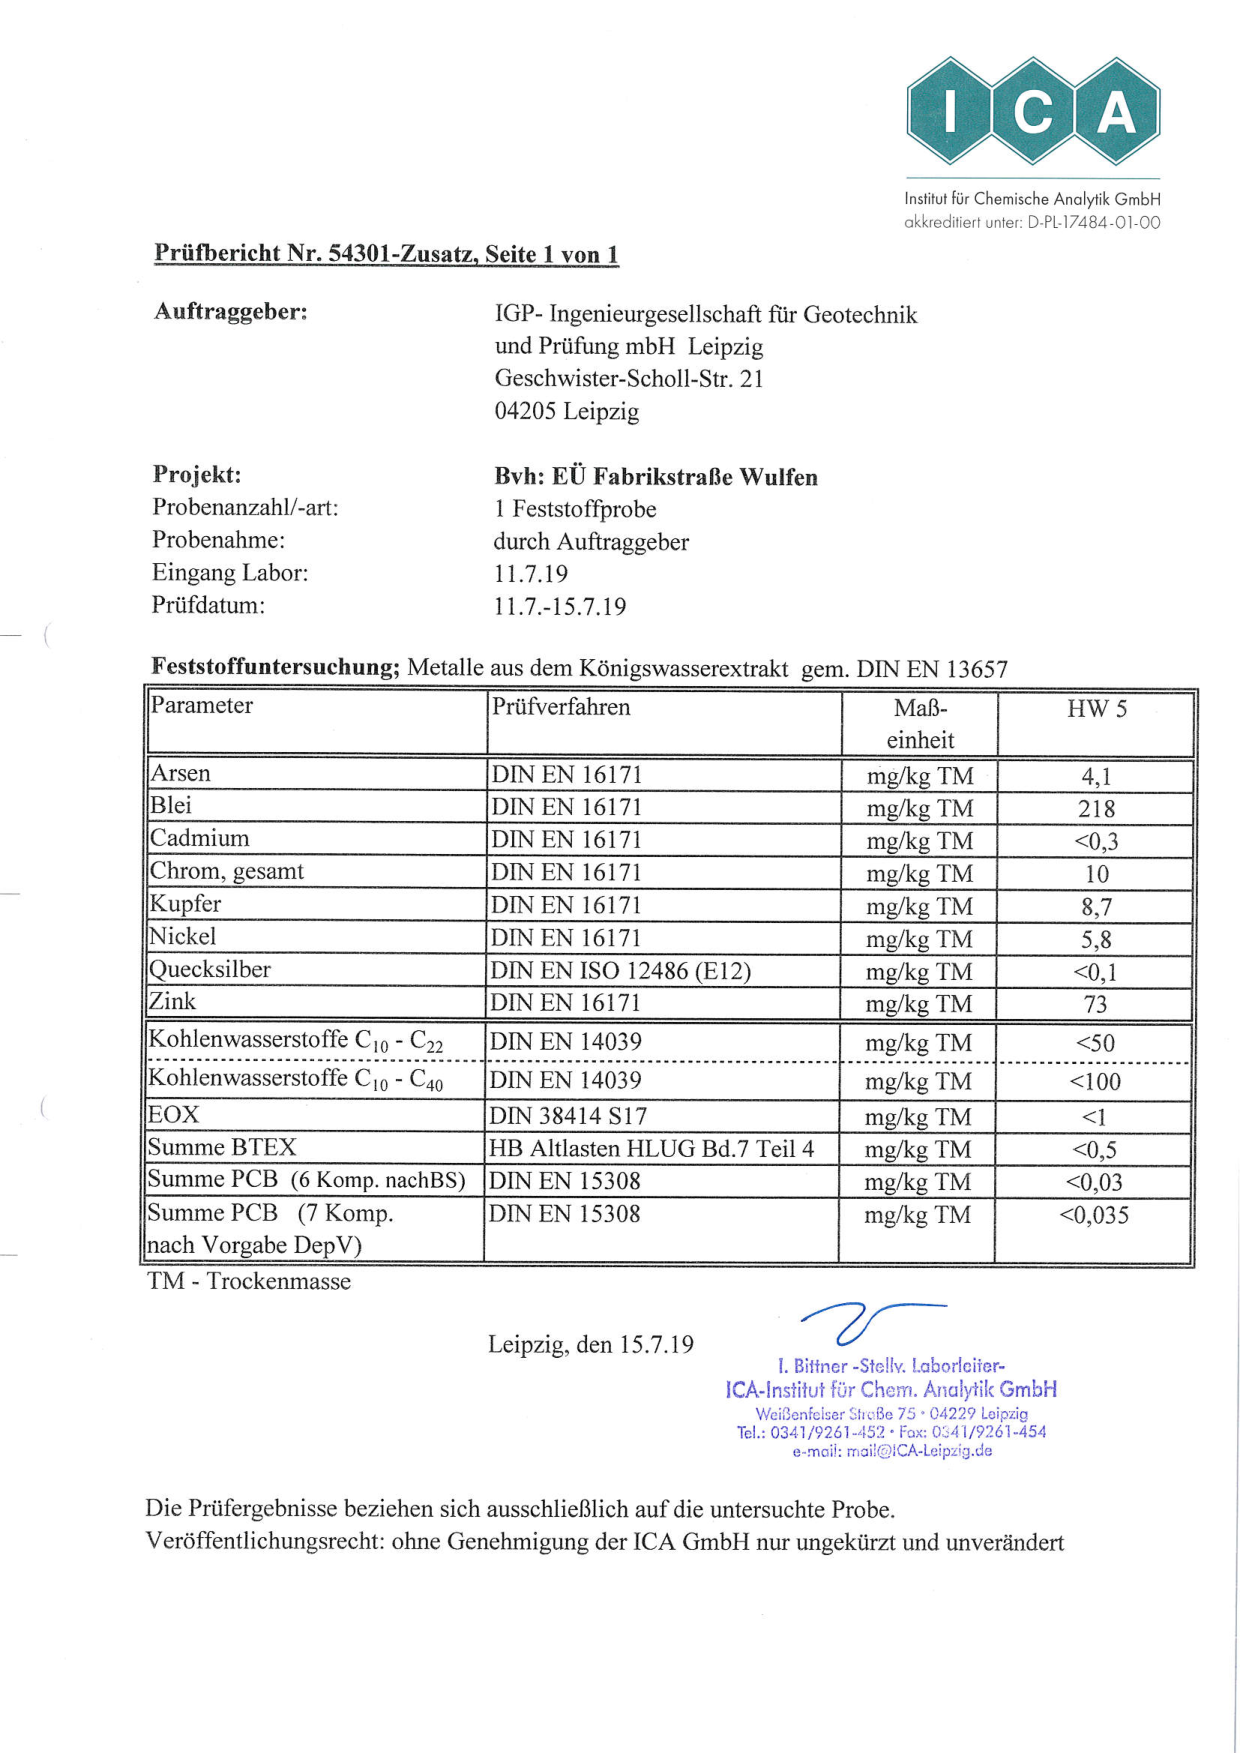table: (134, 679, 1206, 1274)
